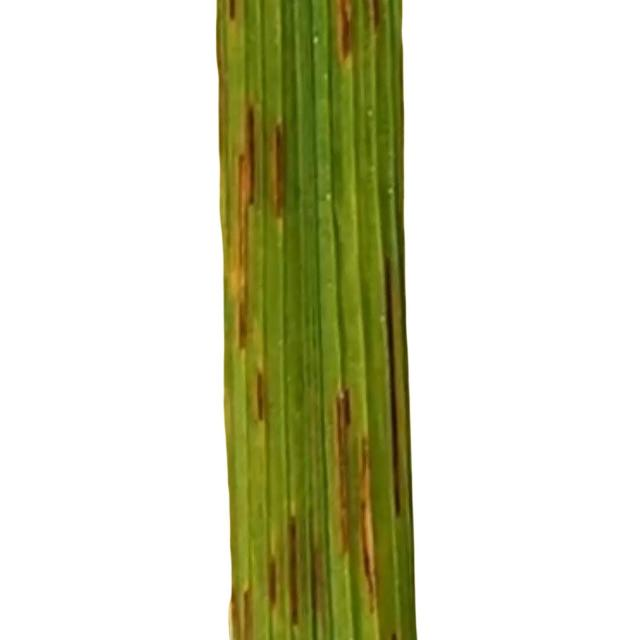Narrow brown: (180, 0, 462, 640)
